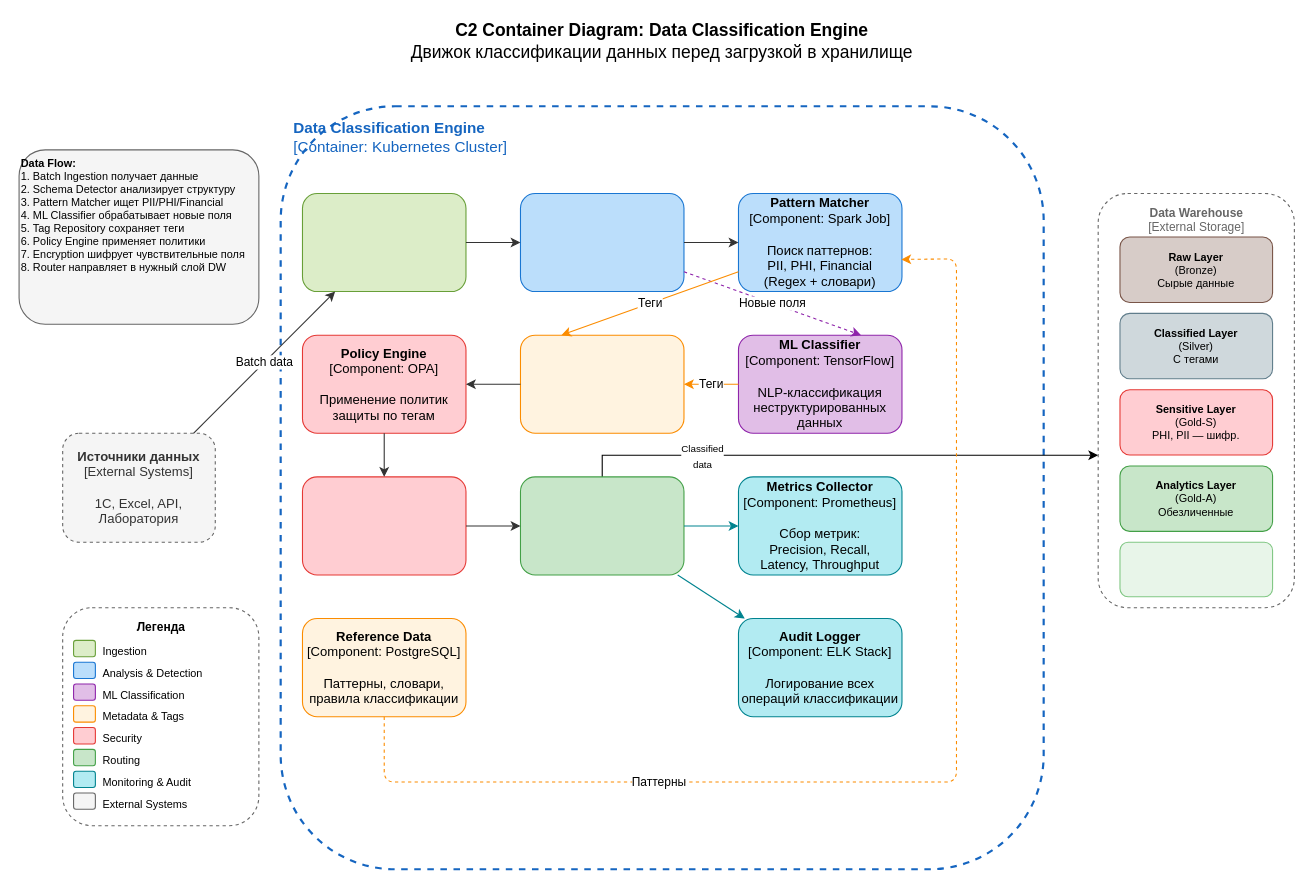
This 1313x888 diagram has some shape labels left out. Each missing label, with the centre of its shape:
Batch Ingestion [Component: Kafka Connect] Приём пакетных данных из источников: the point at 383,242
Data Router [Component: Airflow DAG] Маршрутизация данных в слои хранилища: the point at 601,525
Encryption Service [Component: Vault] Шифрование полей AES-256, токенизация: the point at 383,525
Public Layer (Gold-P) Агрегаты: the point at 1196,569
Schema Detector [Component: Spark Job] Анализ структуры, обнаружение новых полей: the point at 601,242
Tag Repository [Component: Apache Atlas] Хранение тегов, метаданных, lineage: the point at 601,383
